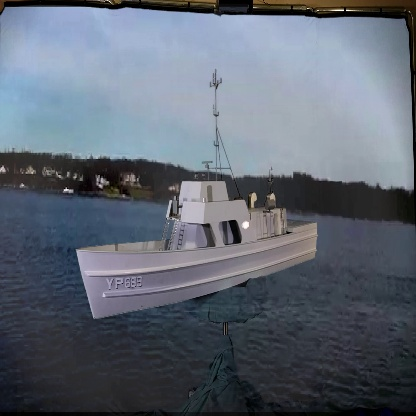YP689: (74, 70, 318, 321)
